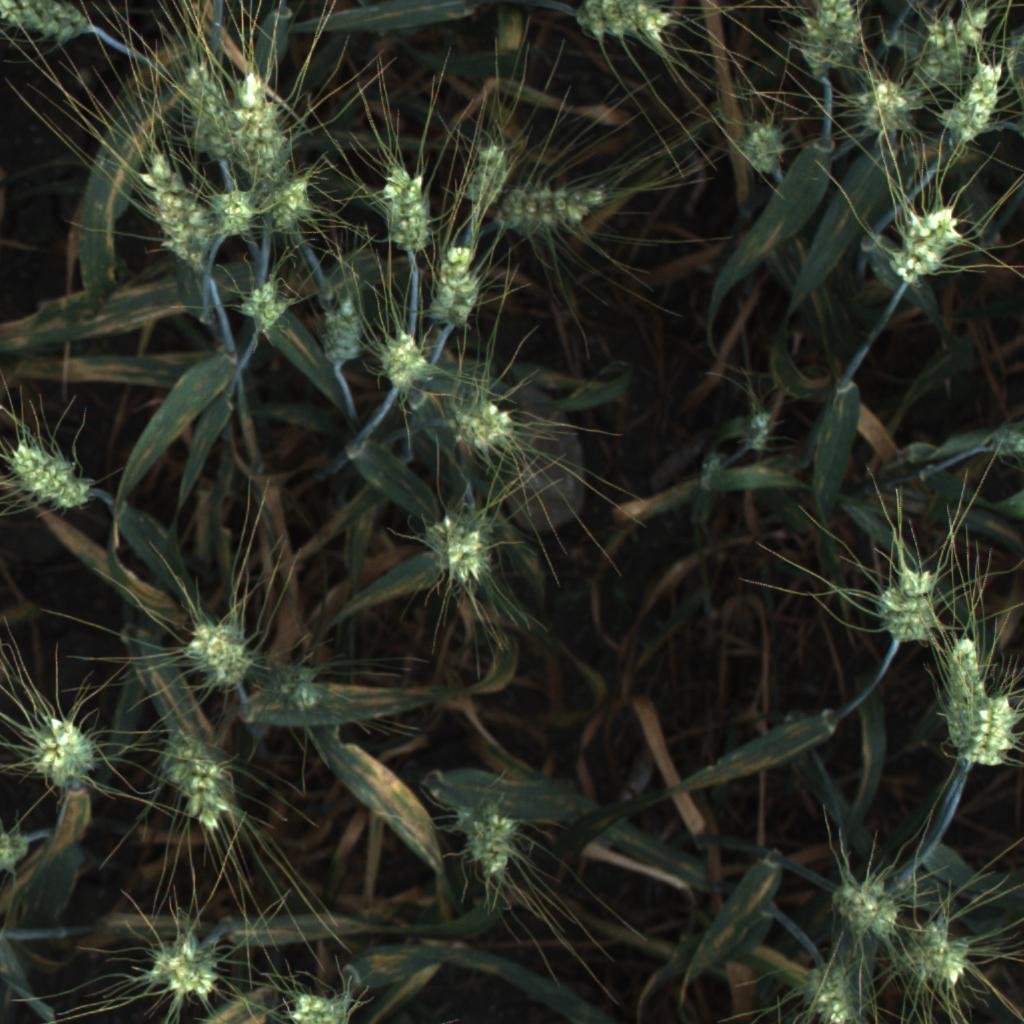0-0: (121, 138, 217, 287), (407, 225, 503, 345), (862, 549, 962, 662), (877, 185, 980, 292), (872, 909, 988, 1002), (157, 725, 249, 842), (138, 912, 241, 1015), (932, 618, 1004, 761), (165, 602, 264, 695), (14, 703, 110, 798), (435, 384, 541, 470), (365, 152, 447, 261), (499, 169, 616, 244), (223, 69, 297, 181), (934, 55, 1016, 155), (367, 319, 443, 426), (417, 501, 500, 598), (818, 868, 918, 946), (458, 797, 540, 889), (9, 434, 94, 522), (306, 269, 372, 382), (556, 0, 686, 55), (720, 104, 803, 190), (918, 4, 997, 93), (962, 677, 1024, 778), (794, 950, 878, 1024), (174, 79, 242, 166), (795, 0, 866, 83), (229, 259, 295, 345), (850, 69, 926, 142), (257, 658, 338, 725), (0, 0, 103, 52), (278, 976, 388, 1024), (454, 127, 513, 214), (259, 171, 329, 240), (0, 814, 38, 904), (190, 187, 259, 235), (736, 413, 785, 466)
